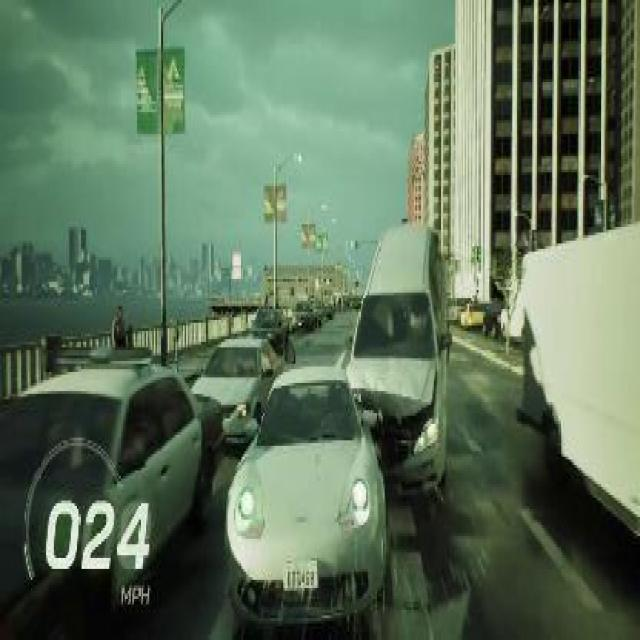accident: (218, 211, 458, 637)
